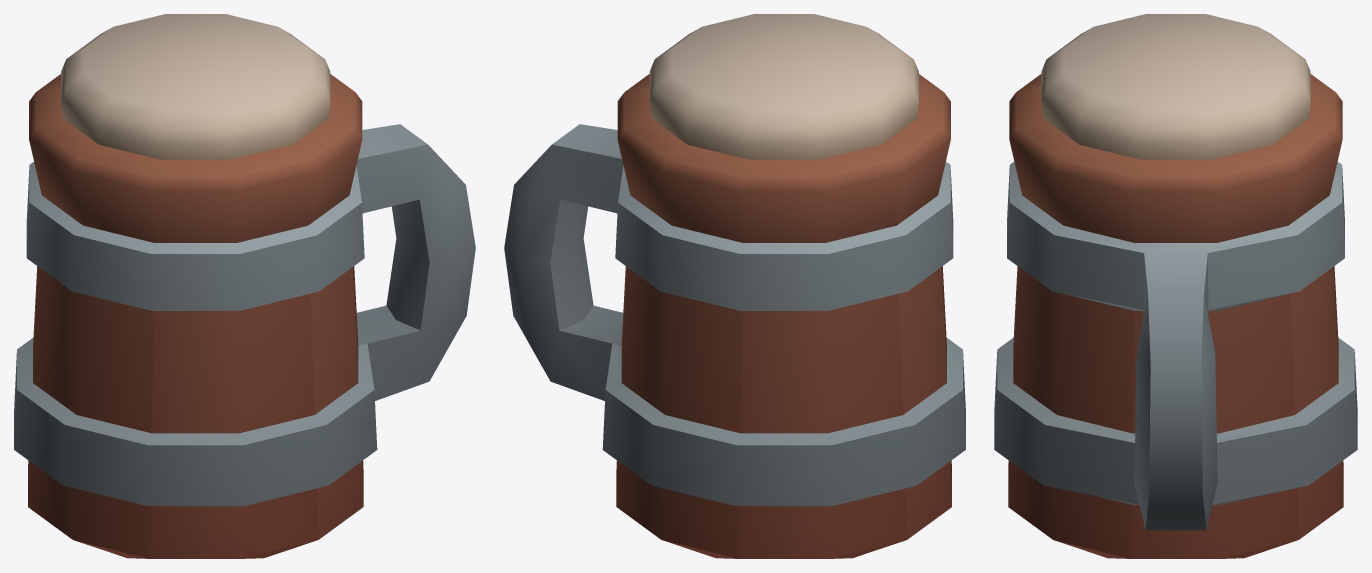
The model's file is gear-mug-full.glb.
3 views of the same model, side by side, from view 1: azimuth 30°, elevation 25°; view 2: azimuth 150°, elevation 25°; view 3: azimuth 270°, elevation 25° (orthographic).
Parts seen in each view (by area): view 1: mug_full; view 2: mug_full; view 3: mug_full.
Boxes of the visible parts, x1=… form: mug_full: x1=14, y1=14, x2=475, y2=558; mug_full: x1=504, y1=14, x2=965, y2=558; mug_full: x1=994, y1=14, x2=1357, y2=558.
Bounding box in the file's own units: 0.5342 × 0.5484 × 0.396.
